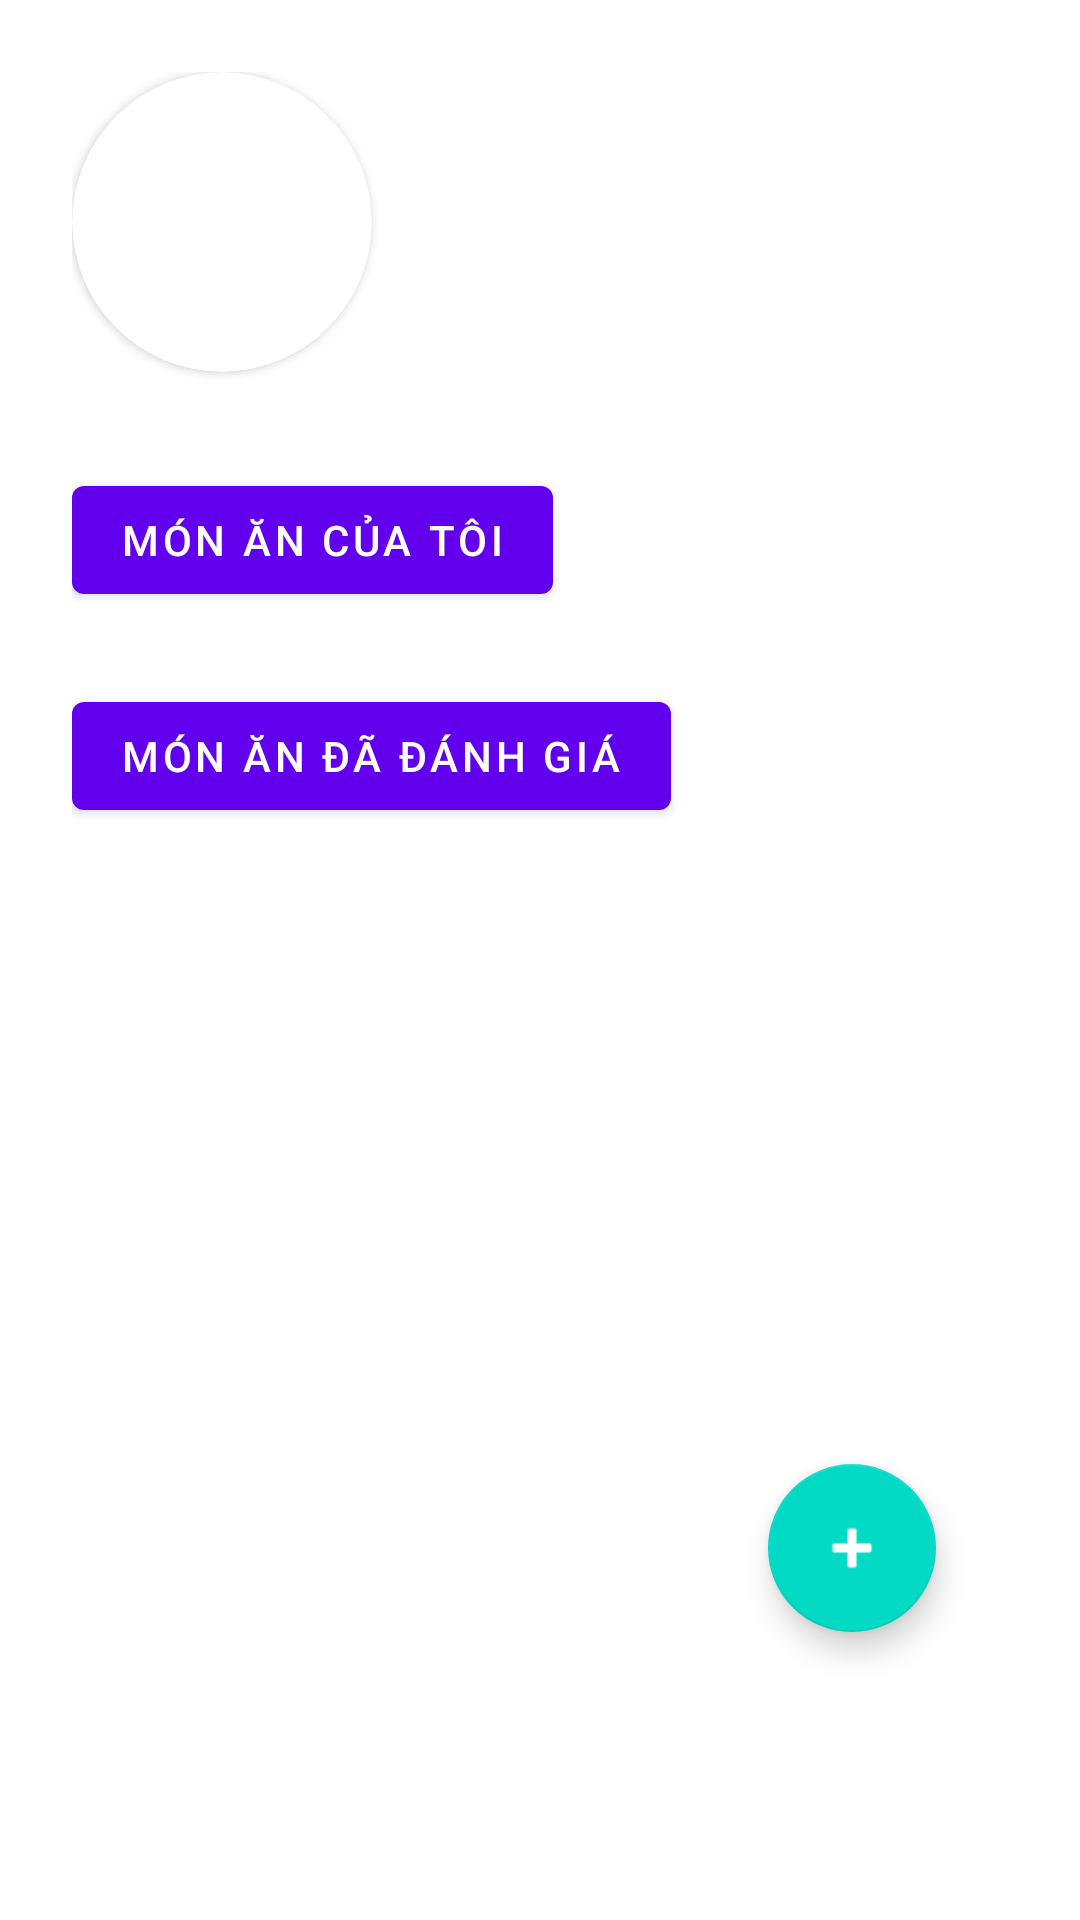

Screen size 1080*1920. Icon name, then its box in pixels as (x1, y1, x2, y2):
Add food: (768, 1464, 936, 1632)
